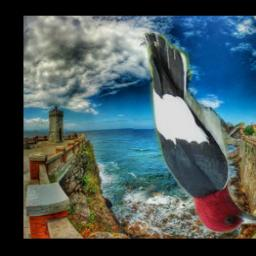Woodpecker: (140, 33, 256, 233)
